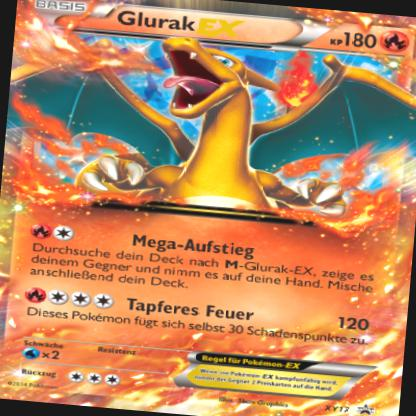Charizard: (3, 26, 416, 233)
